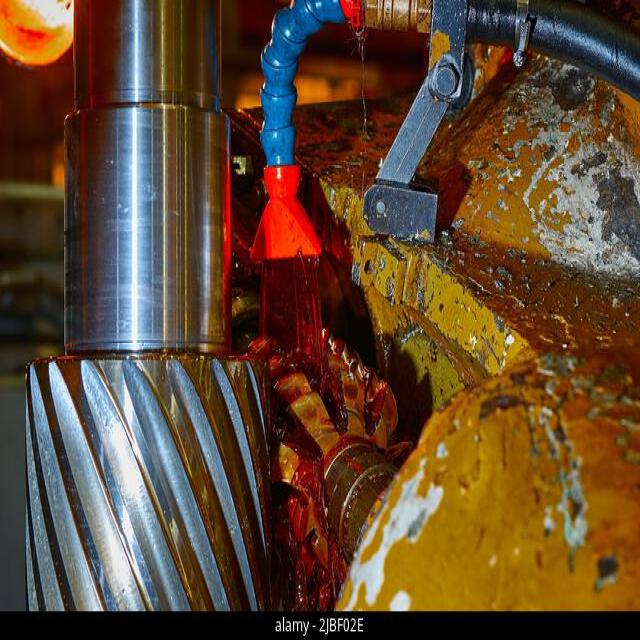Gear: (18, 344, 279, 616)
